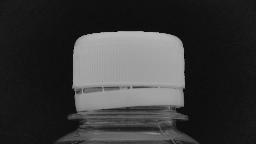Broken Ring: (68, 82, 160, 112)
